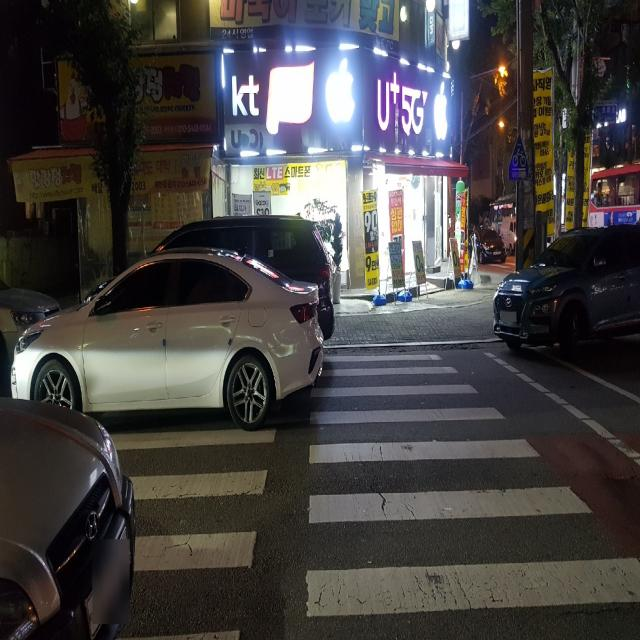횡단보도: (109, 354, 640, 640)
